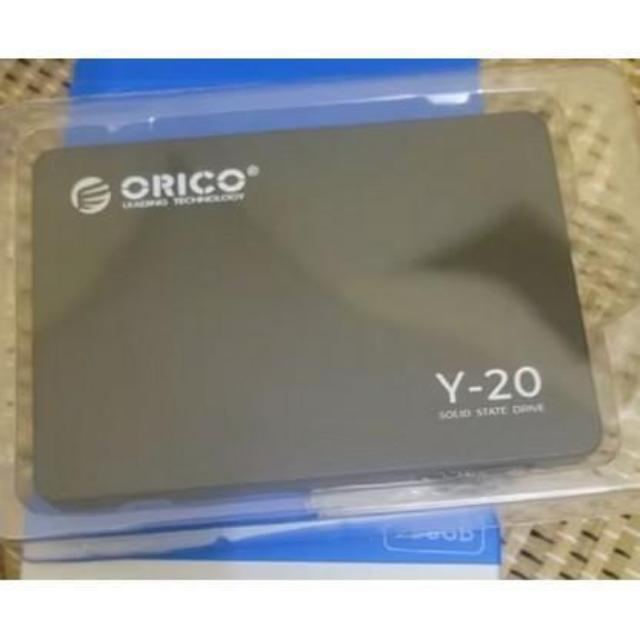DISK: (14, 116, 634, 516)
